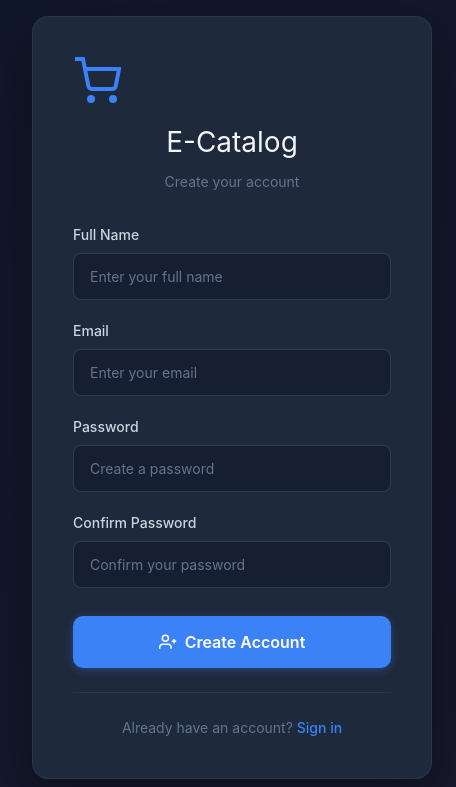
Test: Authentication Flow Integration Tests › TC3: Form Validation › TC3.2: register should require all fields
Click the button "Create Account".
click(232, 642)  # box [73, 616, 391, 668]
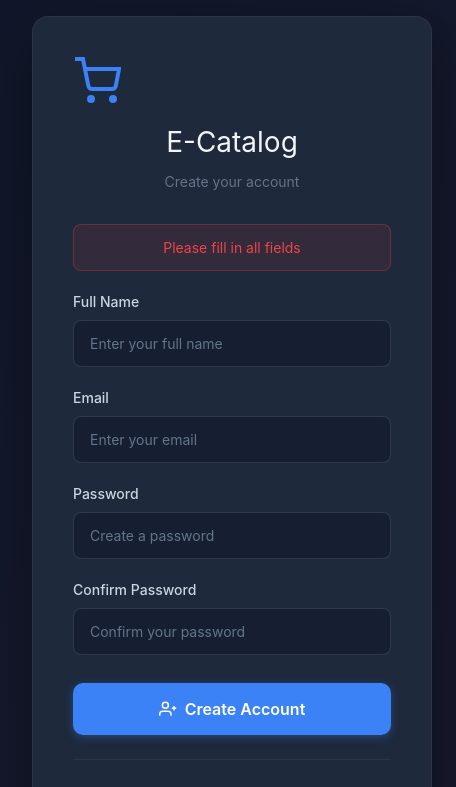
expect the text "Please fill in all fields" is shown: met, box [73, 224, 391, 271]
